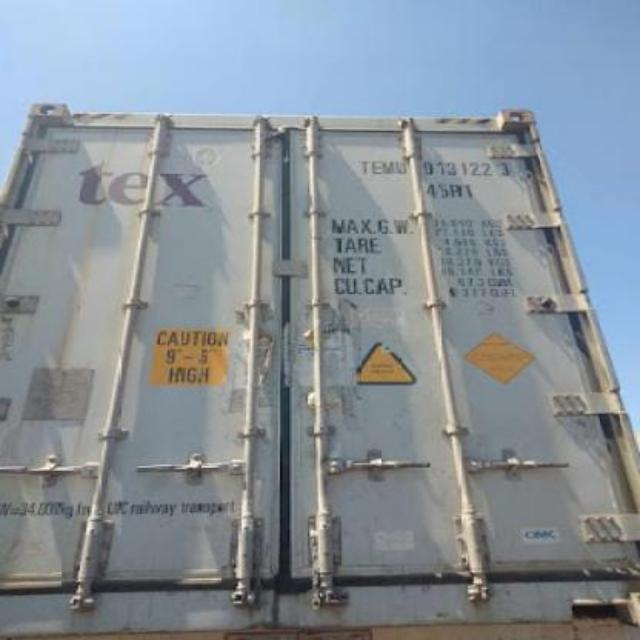1: (458, 159, 470, 177), (436, 162, 446, 174)
2: (468, 161, 482, 177), (481, 160, 494, 176)
3: (496, 161, 512, 177), (446, 160, 458, 176)
9: (422, 162, 436, 174)
E: (371, 162, 384, 174)
M: (380, 162, 398, 174)
T: (358, 159, 372, 175)
U: (396, 162, 408, 174)
